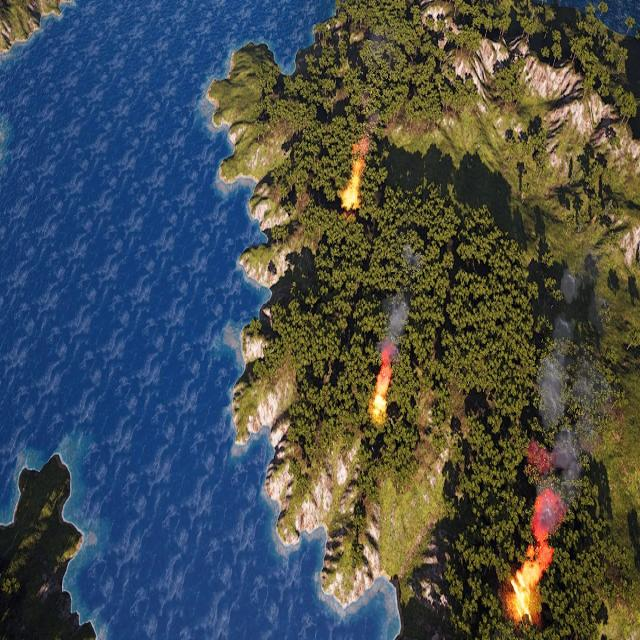fire: (507, 494, 560, 626), (507, 557, 548, 622), (370, 364, 393, 418), (342, 158, 364, 208)
smoke: (518, 259, 608, 601), (375, 240, 421, 373)
